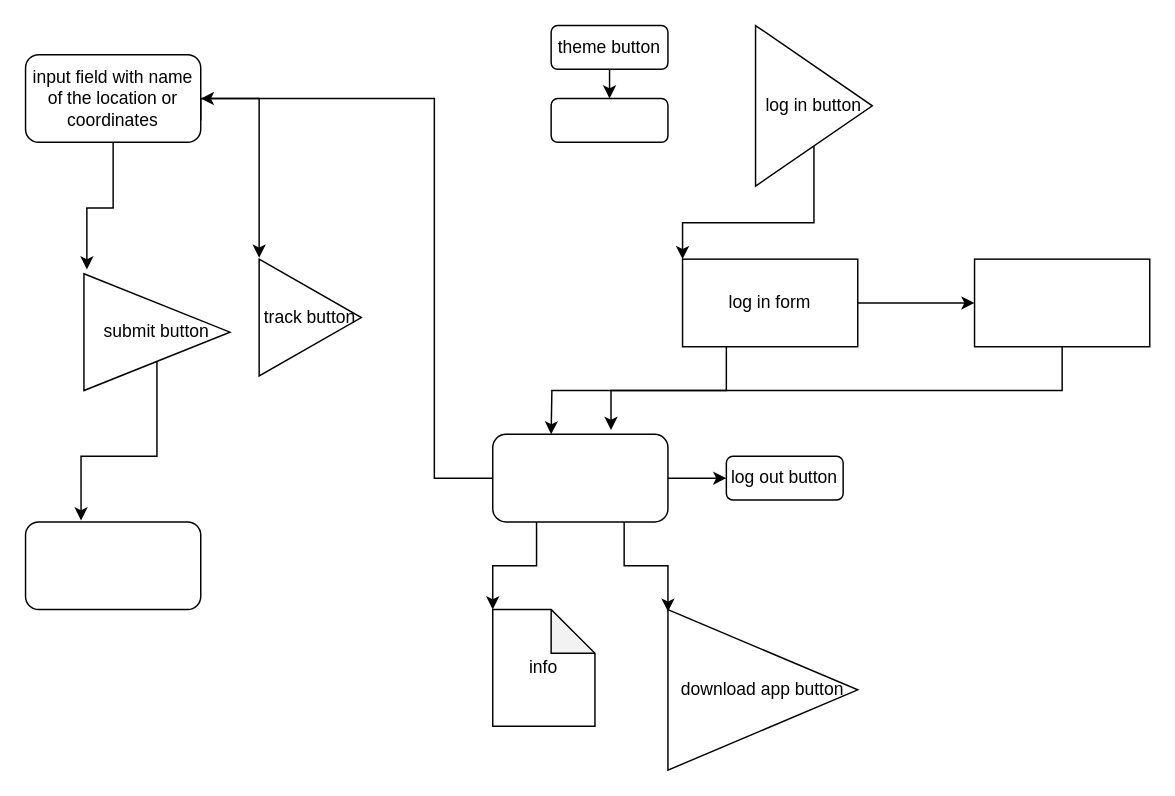
This 1175x796 diagram has some shape labels left out. Each missing label, with the box of its shape:
dark theme: (550, 97, 668, 142)
loged in template: (491, 433, 668, 522)
registration form: (973, 258, 1150, 347)
resault template: (24, 520, 201, 610)
